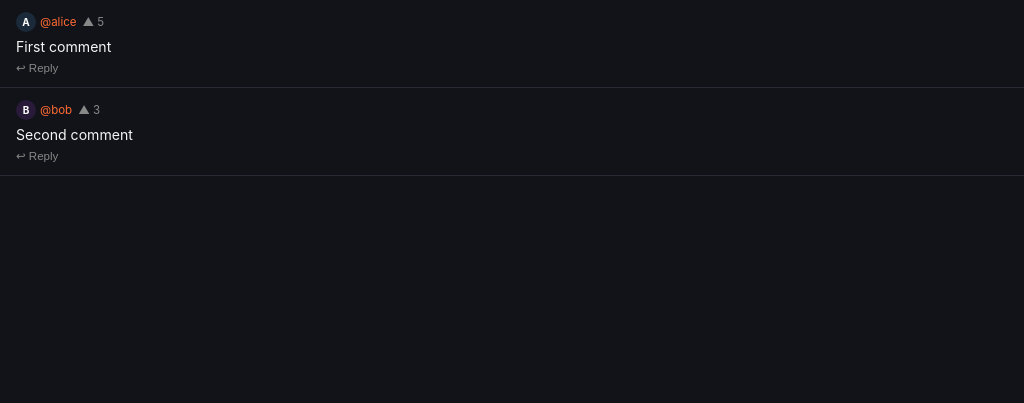
Scenario: CommentList › closes the reply sheet when Cancel is clicked
Step 1. Click the button "↩ Reply" below "First comment" → (37, 66), box [16, 57, 58, 75]
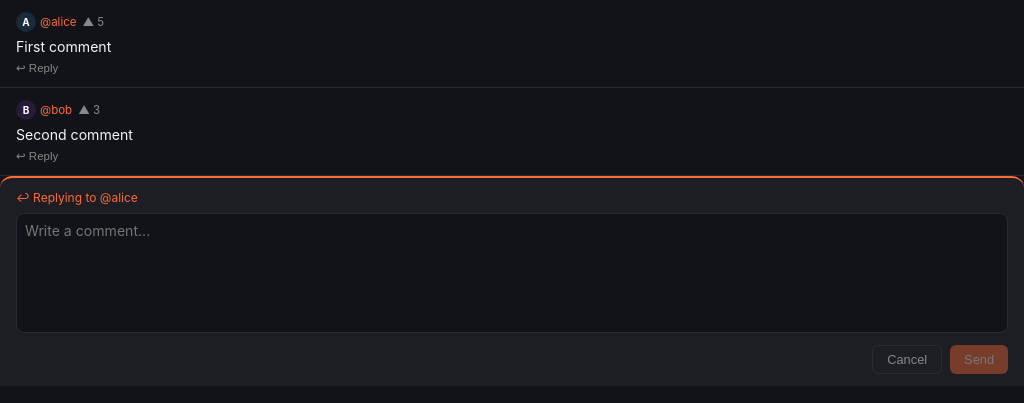
Step 2. Click the button "Cancel" → (907, 360), box [872, 345, 942, 374]
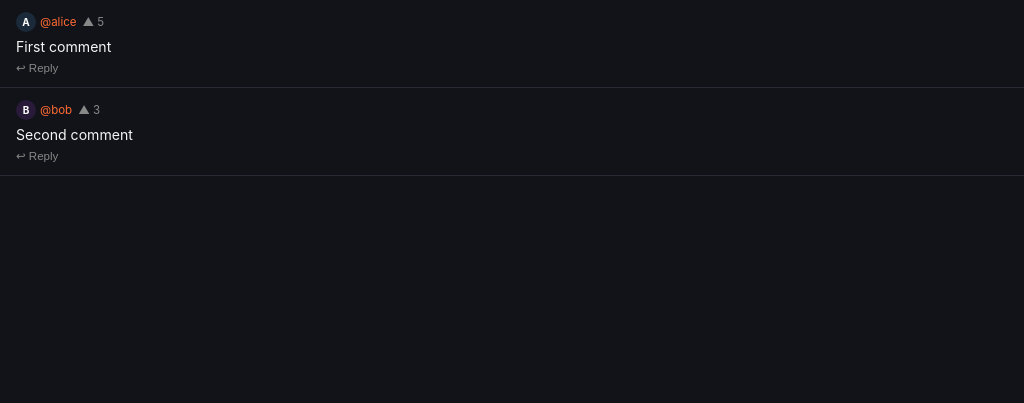
Result: the text "Replying to" is gone
